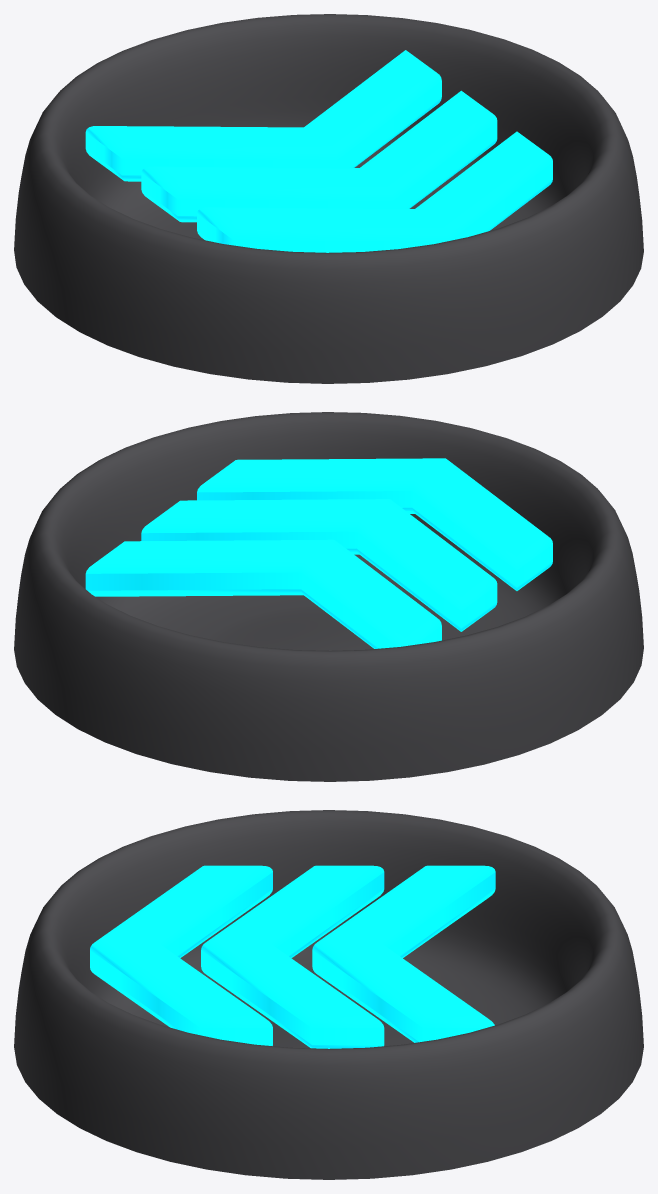
File: Power.Up-Speedfbx.fbx
The picture shows the model from 3 angles, top to bottom: view 1: azimuth 30°, elevation 25°; view 2: azimuth 150°, elevation 25°; view 3: azimuth 270°, elevation 25°; orthographic projection.
Parts seen in each view (by area): view 1: BezierCircle, BezierCurve.001, BezierCurve, BezierCurve.002; view 2: BezierCircle, BezierCurve, BezierCurve.002, BezierCurve.001; view 3: BezierCircle, BezierCurve.001, BezierCurve.002, BezierCurve.
Boxes of the visible parts, x1,y1,x2,y2 form: BezierCircle: (14,14,643,383); BezierCurve.001: (141,90,497,222); BezierCurve: (85,50,441,181); BezierCurve.002: (197,131,552,252); BezierCircle: (14,412,643,781); BezierCurve: (85,539,441,648); BezierCurve.002: (197,458,552,590); BezierCurve.001: (141,499,497,631); BezierCircle: (14,810,643,1179); BezierCurve.001: (201,865,384,1048); BezierCurve.002: (90,865,272,1045); BezierCurve: (312,865,495,1042).
Bounding box in the file's own units: 170 × 38.65 × 170.
